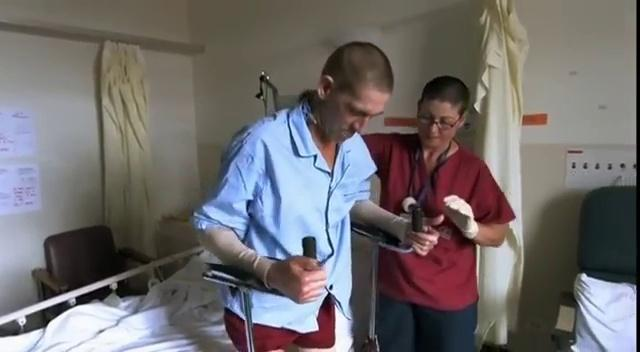doctor: (191, 40, 441, 351)
others: (351, 74, 516, 351)
